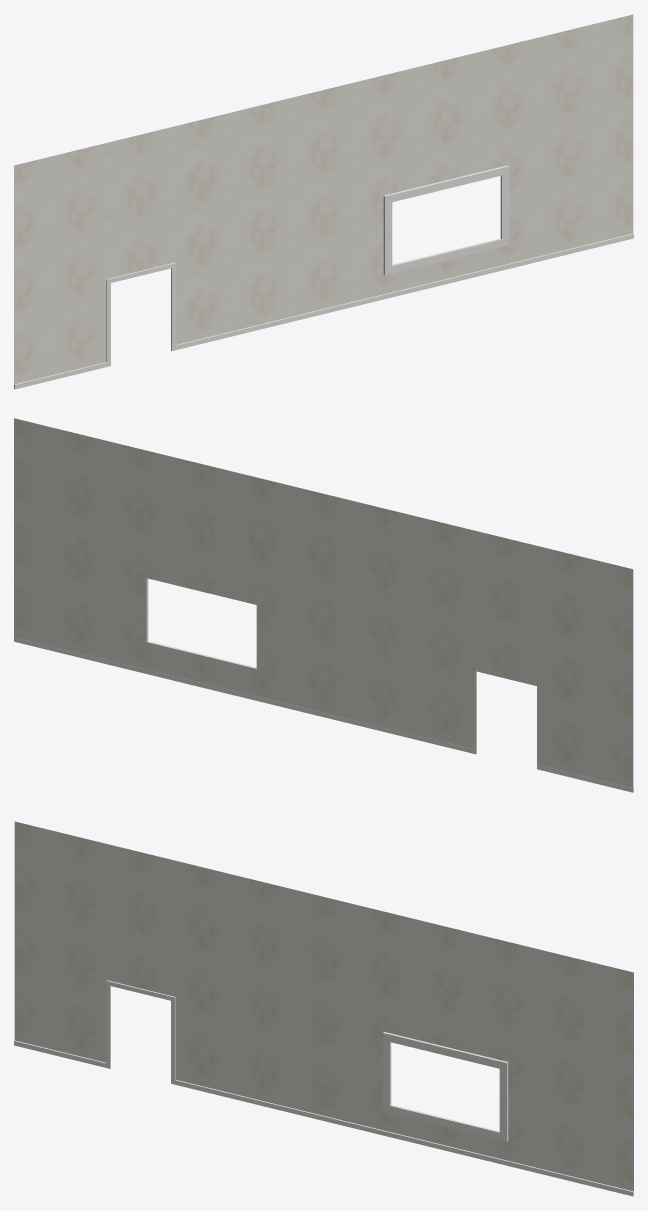
3 views of the same model, one above another, from view 1: azimuth 30°, elevation 25°; view 2: azimuth 150°, elevation 25°; view 3: azimuth 330°, elevation 25° (orthographic).
Parts seen in each view (by area): view 1: jx_wm_20_5c975509; view 2: jx_wm_20_5c975509; view 3: jx_wm_20_5c975509.
Boxes of the visible parts, x1,y1,x2,y2 form: jx_wm_20_5c975509: (14, 14, 633, 389); jx_wm_20_5c975509: (14, 418, 633, 792); jx_wm_20_5c975509: (14, 821, 633, 1196).
Bounding box in the file's own units: 20.3 × 7 × 0.086.
Materials: 2 (2 with a texture image).
